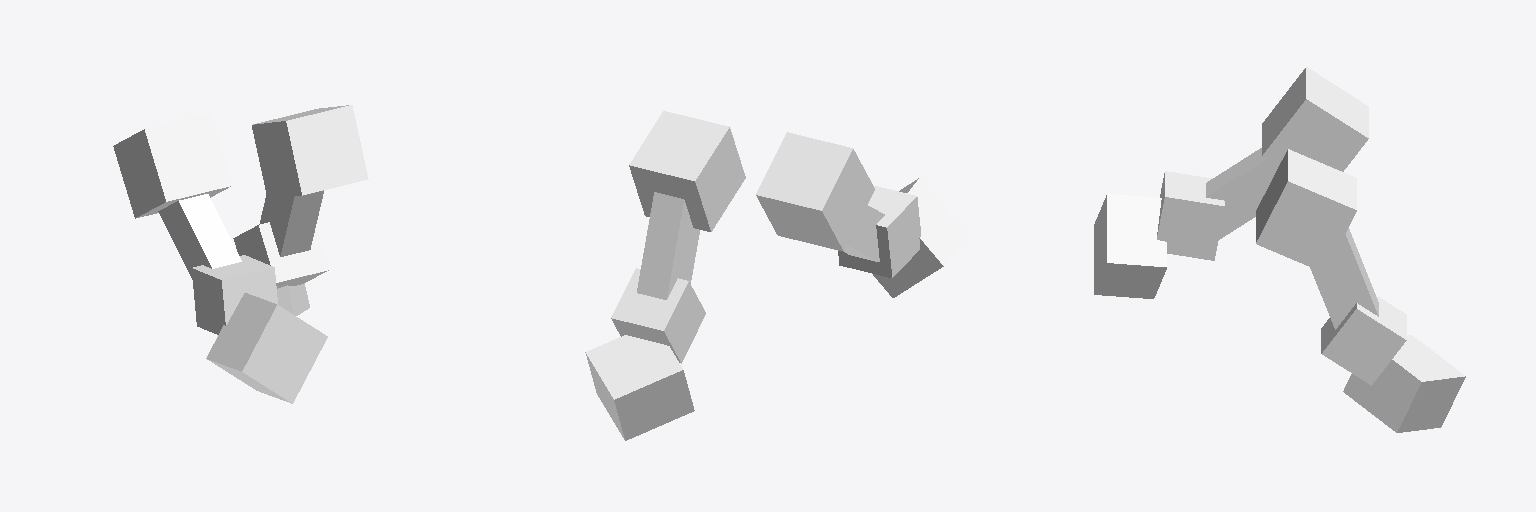
File: mt_horse2_bf.obj
The picture shows the model from 3 angles: view 1: azimuth 30°, elevation 25°; view 2: azimuth 150°, elevation 25°; view 3: azimuth 270°, elevation 25°; orthographic projection.
Parts seen in each view (by area): view 1: cube.006, cube.005, cube.001, cube.000, cube, cube.003, cube.004, cube.002; view 2: cube.005, cube.006, cube.002, cube.003, cube.004, cube.000, cube.001, cube; view 3: cube.006, cube.005, cube.001, cube.002, cube.003, cube.000, cube, cube.004.
Part boxes in pixels (x1,y1,x2,y2): cube.006: (252,105,368,198); cube.005: (113,113,232,218); cube.001: (206,293,327,403); cube.000: (192,255,277,334); cube: (158,194,241,279); cube.003: (233,222,328,288); cube.004: (259,190,323,256); cube.002: (277,283,309,315); cube.005: (756,132,874,251); cube.006: (629,111,745,231); cube.002: (585,335,694,440); cube.003: (611,268,705,363); cube.004: (637,192,699,299); cube.000: (838,185,920,277); cube.001: (873,178,967,297); cube: (844,205,884,261); cube.006: (1256,149,1356,272); cube.005: (1262,67,1368,171); cube.001: (1094,194,1166,298); cube.002: (1343,335,1465,432); cube.003: (1321,295,1406,385); cube.000: (1157,171,1224,260); cube: (1206,148,1278,239); cube.004: (1310,228,1378,329).
Size of the model in its own units: 1.03 by 1.23 by 1.47.